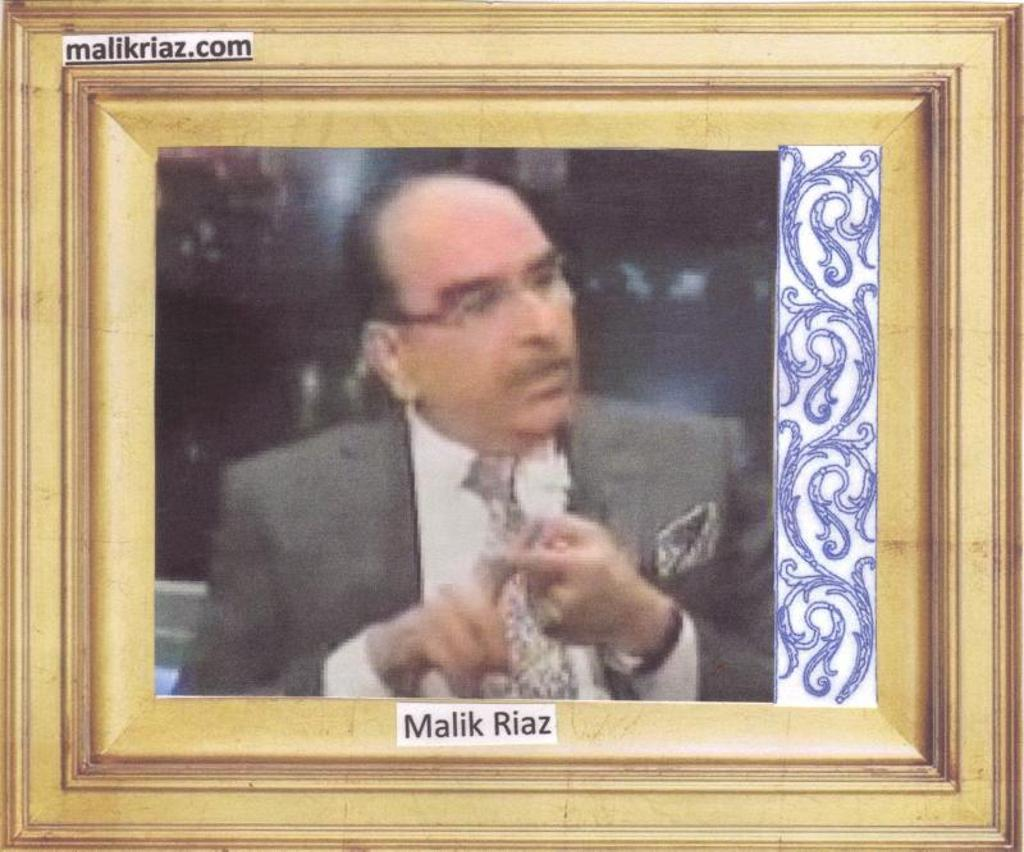face: (391, 181, 575, 425)
